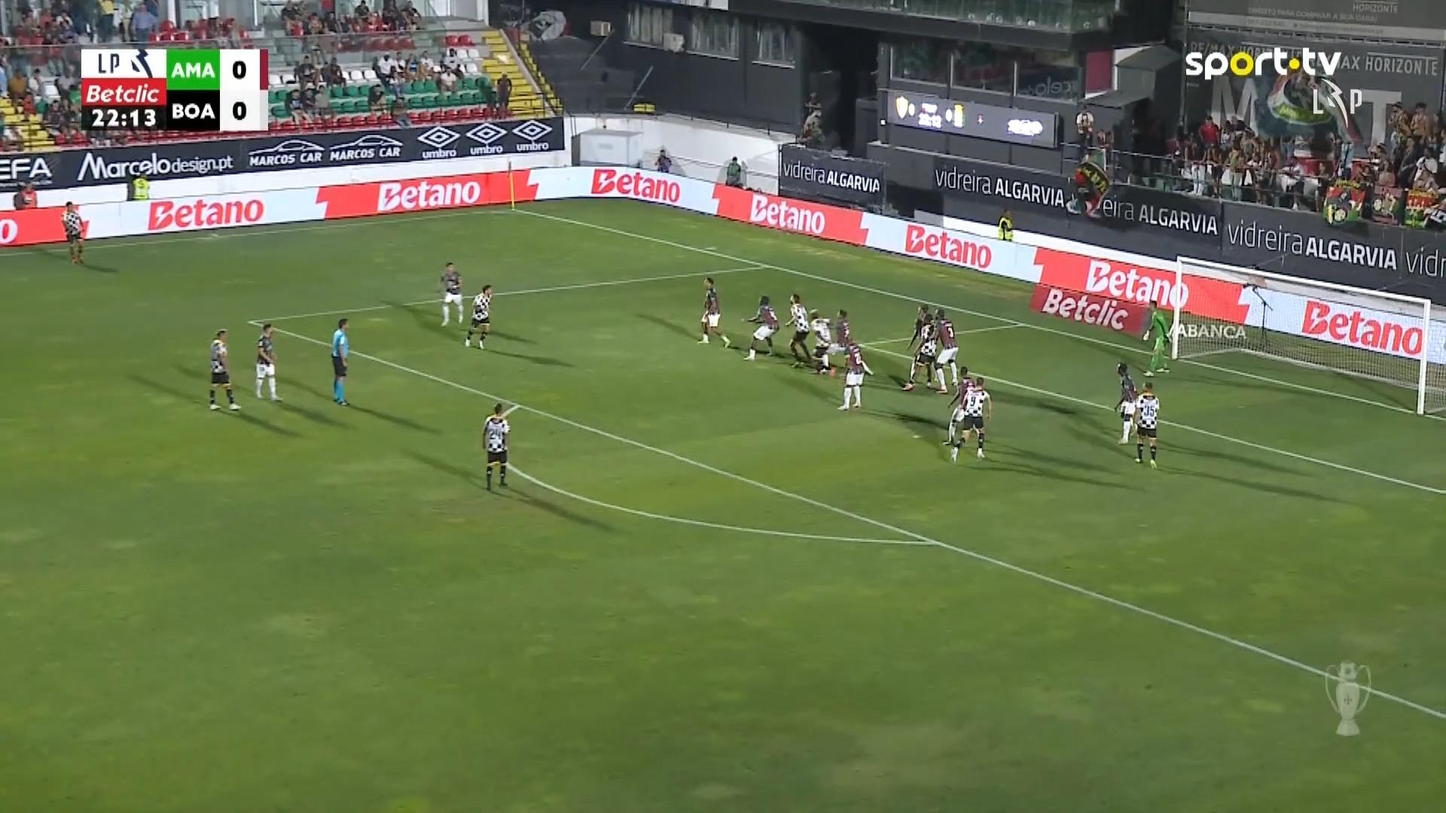goalkeeper: (1139, 297, 1171, 376)
player: (949, 376, 993, 462), (901, 303, 938, 390), (480, 402, 511, 491), (207, 327, 240, 410), (837, 339, 874, 410), (941, 365, 973, 444), (696, 276, 731, 348), (930, 307, 959, 393), (742, 294, 779, 360), (1132, 381, 1160, 467), (254, 322, 282, 401), (785, 293, 813, 368), (463, 284, 493, 349), (807, 309, 836, 376), (1113, 361, 1136, 443), (438, 261, 464, 327), (61, 200, 86, 263), (831, 307, 851, 350)
referee: (329, 317, 350, 405)
